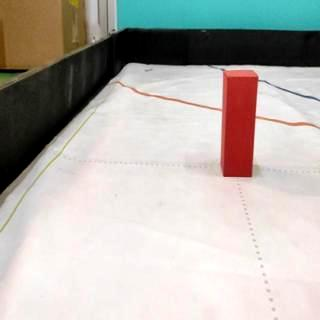redbox: (221, 70, 259, 178)
